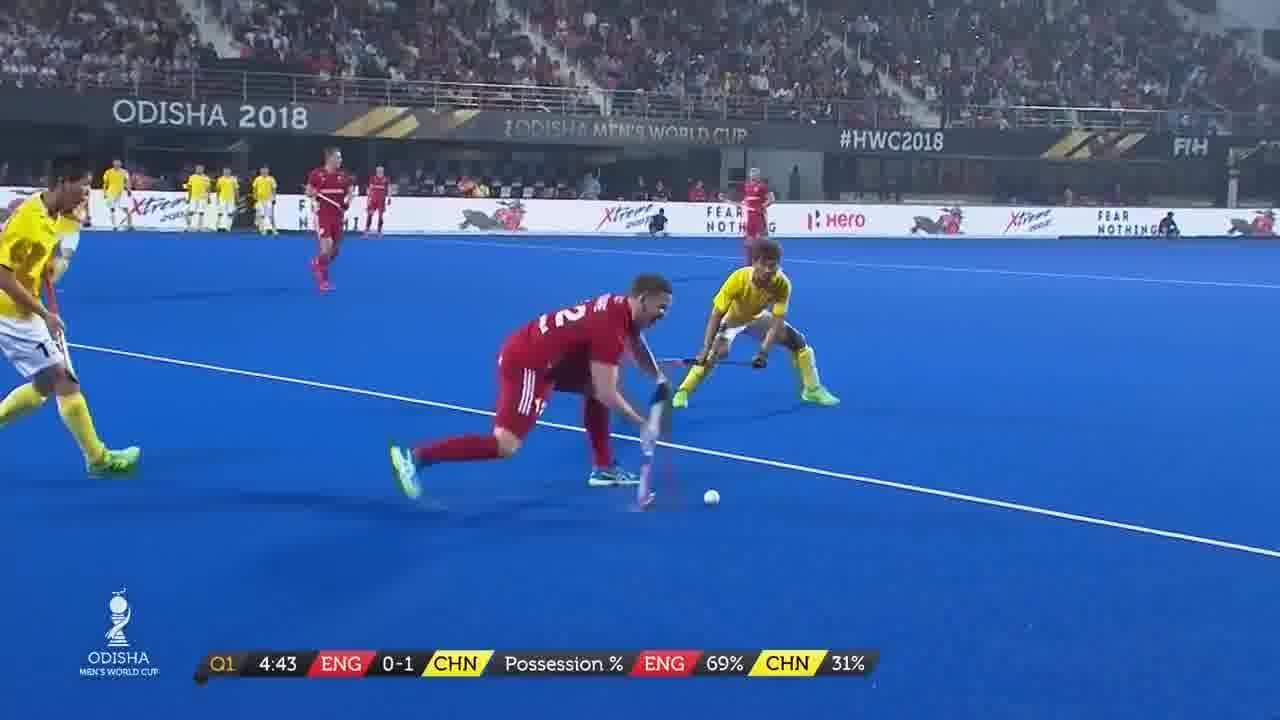ball: (700, 486, 726, 514)
